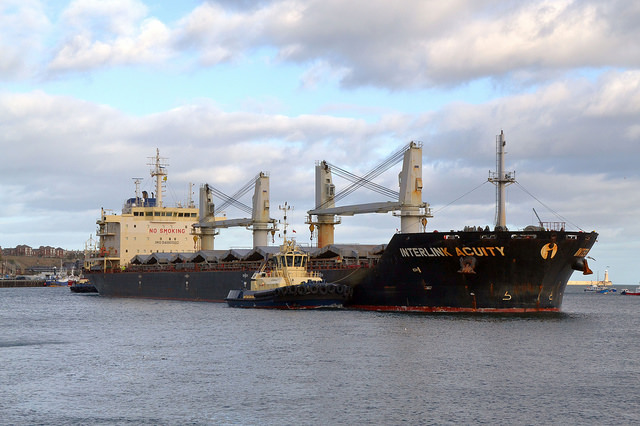bulk carrier: (85, 148, 597, 315)
tug_boat: (227, 228, 351, 309)
